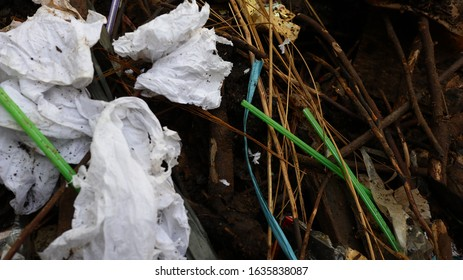Tissue: (111, 1, 238, 112)
